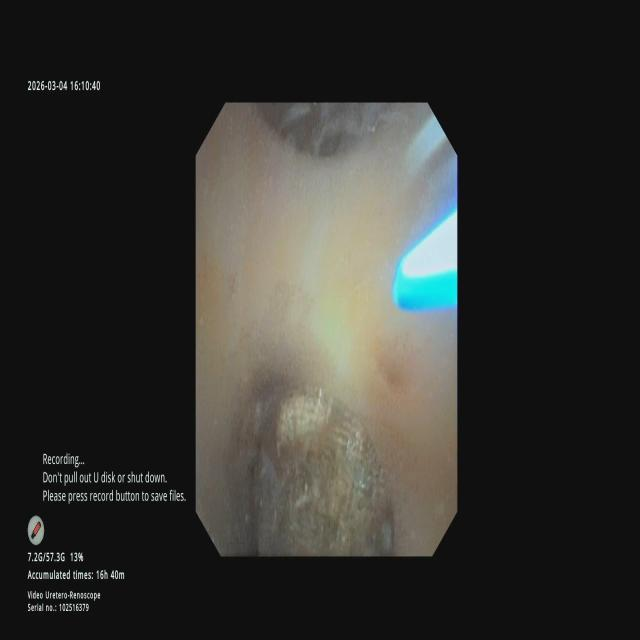laser_dot: (314, 299, 349, 353)
stone-new: (243, 387, 393, 555)
